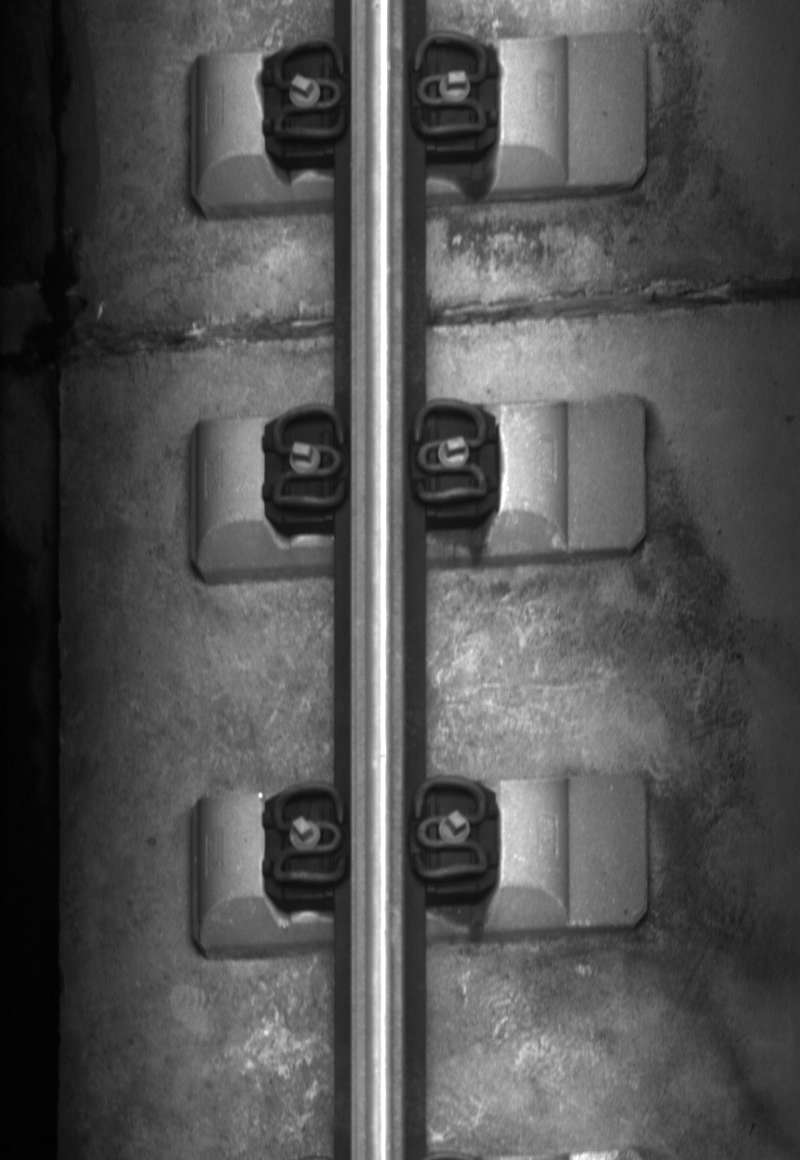l_faster: (267, 397, 348, 514), (266, 777, 349, 890), (268, 32, 350, 143)
r_faster: (406, 396, 497, 513), (408, 770, 494, 887), (410, 30, 490, 142)
